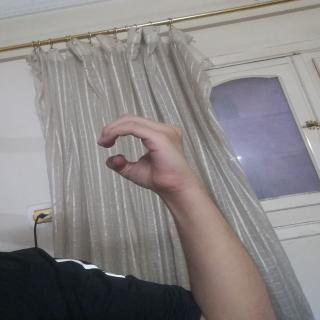JEEM: (94, 108, 189, 211)
